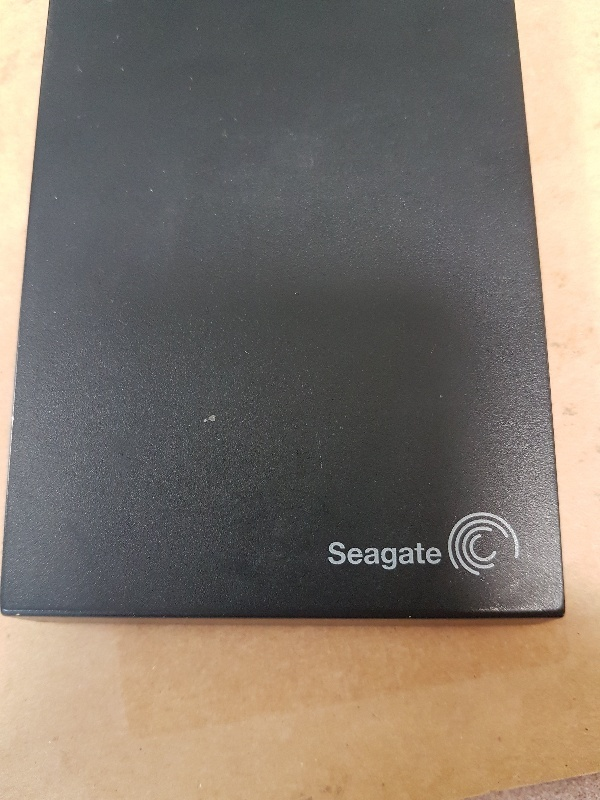text: (337, 542, 352, 571), (353, 542, 368, 571), (369, 542, 384, 571), (385, 542, 400, 571), (401, 542, 416, 571), (417, 542, 432, 571), (327, 542, 336, 571), (433, 542, 442, 571)
